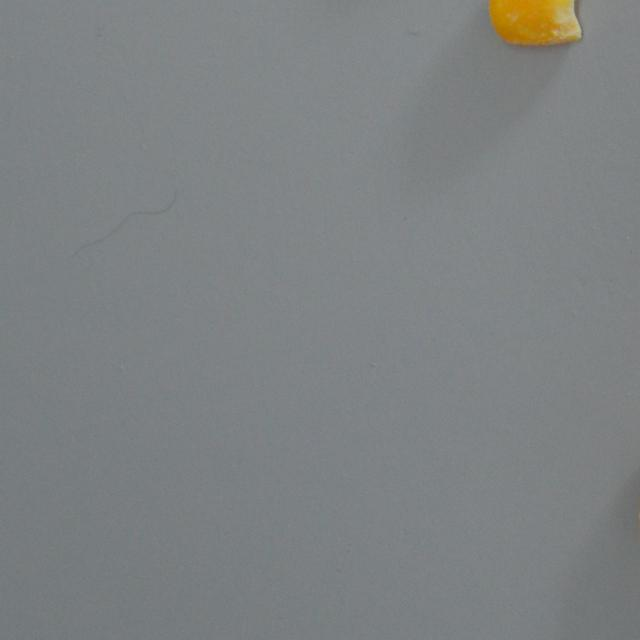pelicula: (490, 0, 584, 48)
